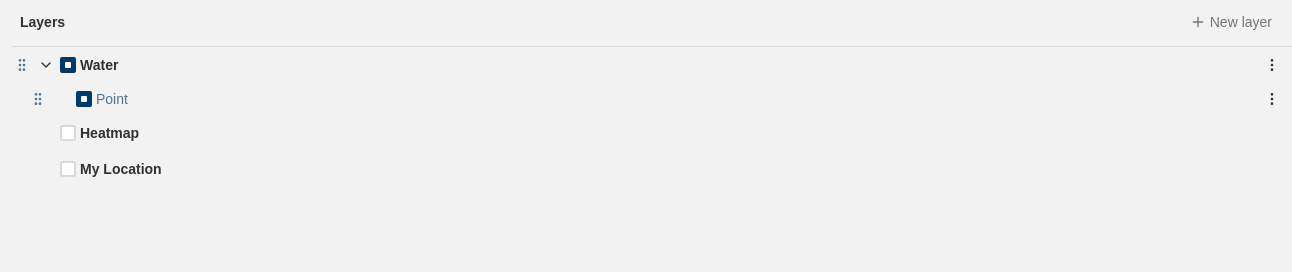
it: LayerTreePanel › renames a feature through its kebab menu
Step 1. Click the button named "feature options" → [1272, 99], box [1260, 87, 1284, 111]
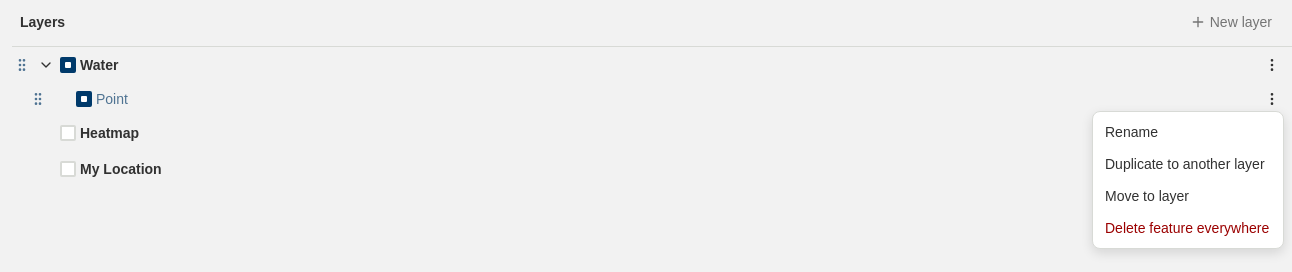
Step 2. Click the menu item "Rename" → [1131, 132], box [1105, 124, 1158, 140]
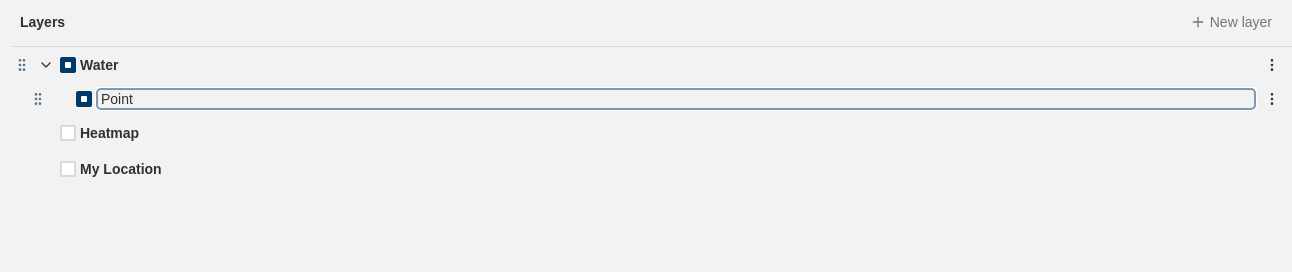
Step 3. Replace the text in the field showing "Point" with "Watering hole" → [676, 99], box [96, 88, 1256, 110]
Then press Enter
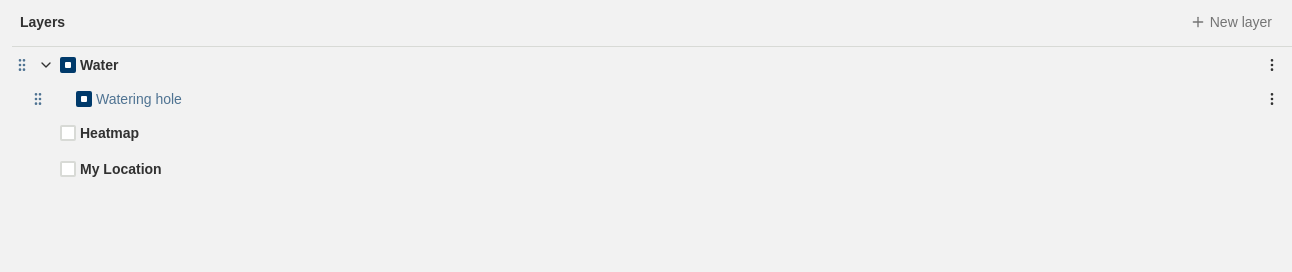
expect the button "Watering hole" is shown: met, box [96, 89, 1256, 109]
